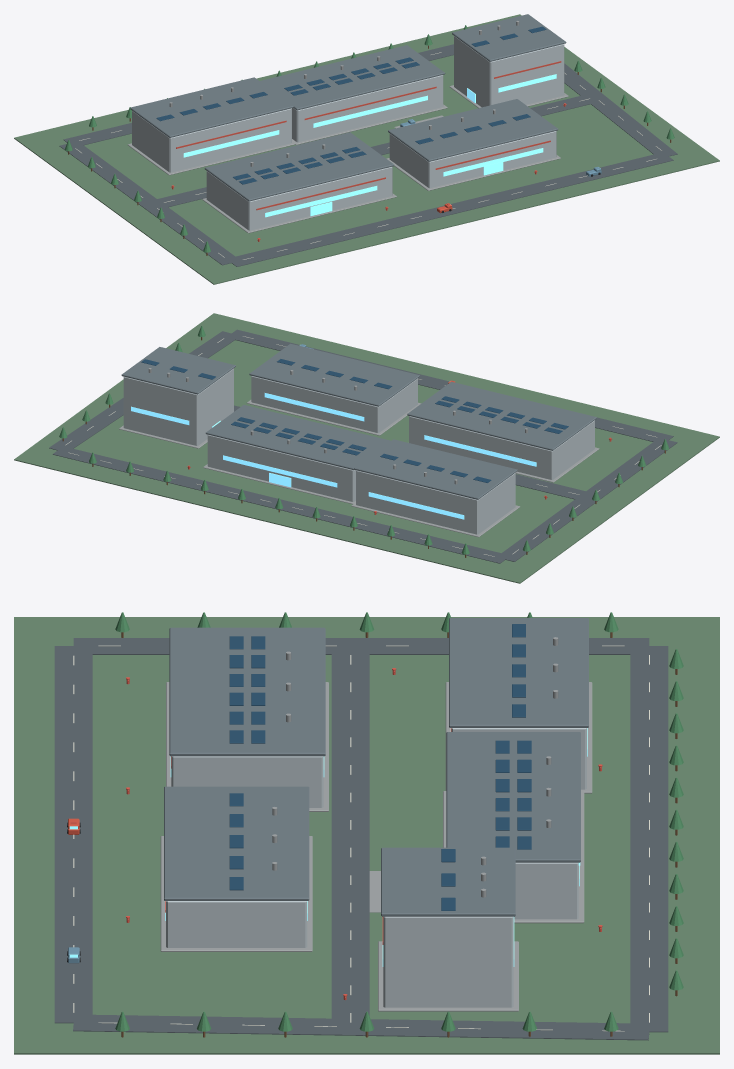
Rendered from fireops-campus.glb.
3 views of the same model, one above another, from view 1: azimuth 30°, elevation 25°; view 2: azimuth 150°, elevation 25°; view 3: azimuth 270°, elevation 25° (orthographic). The views are drawn at different scales.
Visible parts, largest first — view 1: ground, roof, roof.001, building_shell.003, roof.004, building_shell.002, roof.003, fire_lane_01, building_shell, building_shell.004, building_shell.001, roof.002 (+12 smaller); view 2: ground, roof, building_shell.002, building_shell.003, roof.001, roof.004, building_shell, roof.003, fire_lane_03, building_shell.004, building_shell.001, roof.002 (+11 smaller); view 3: ground, roof, roof.001, fire_lane_03, roof.004, fire_lane_05, roof.003, fire_lane_01, building_shell.002, fire_lane_02, roof.002, building_shell.001 (+9 smaller).
Part boxes in pixels (<box>): ground: <box>14,14,719,284</box>; roof: <box>204,132,394,201</box>; roof.001: <box>388,99,558,161</box>; building_shell.003: <box>132,108,291,172</box>; roof.004: <box>260,45,445,110</box>; building_shell.002: <box>454,36,564,107</box>; roof.003: <box>130,77,293,137</box>; fire_lane_01: <box>226,154,673,266</box>; building_shell: <box>206,166,392,230</box>; building_shell.004: <box>292,75,443,142</box>; building_shell.001: <box>389,131,556,188</box>; roof.002: <box>452,14,566,61</box>; ground: <box>14,313,719,583</box>; roof: <box>407,381,596,450</box>; building_shell.002: <box>123,368,233,445</box>; building_shell.003: <box>356,470,515,534</box>; roof.001: <box>249,343,419,406</box>; roof.004: <box>205,405,390,470</box>; building_shell: <box>409,416,594,479</box>; roof.003: <box>354,439,517,499</box>; fire_lane_03: <box>52,446,509,563</box>; building_shell.004: <box>207,434,355,501</box>; building_shell.001: <box>251,376,417,432</box>; roof.002: <box>121,347,235,394</box>; ground: <box>14,617,719,1054</box>; roof: <box>169,627,325,756</box>; roof.001: <box>164,786,309,900</box>; fire_lane_03: <box>630,646,668,1032</box>; roof.004: <box>446,732,580,862</box>; fire_lane_05: <box>331,646,369,1030</box>; roof.003: <box>449,618,588,727</box>; fire_lane_01: <box>54,646,92,1023</box>; building_shell.002: <box>383,916,513,1007</box>; fire_lane_02: <box>73,1014,649,1040</box>; roof.002: <box>381,847,515,916</box>; building_shell.001: <box>166,901,307,947</box>.
Bounding box in the file's own units: 190 × 21.37 × 130.
